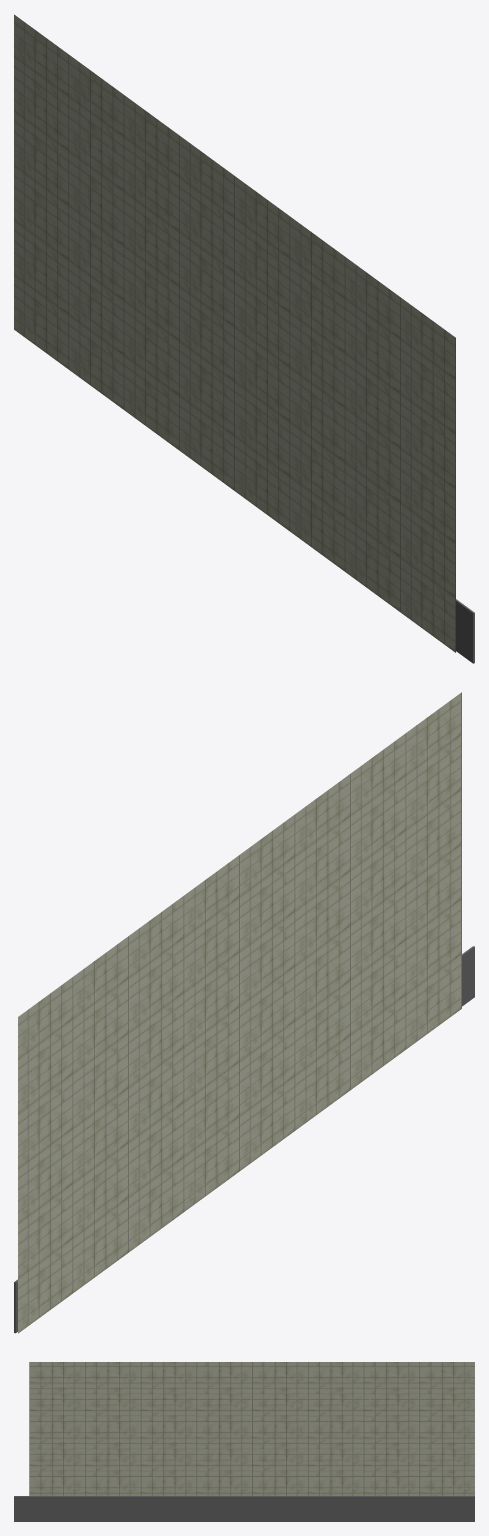
The model's file is leftWall.fbx.
3 views of the same model, one above another, from view 1: azimuth 30°, elevation 25°; view 2: azimuth 150°, elevation 25°; view 3: azimuth 270°, elevation 25° (orthographic). The views are drawn at different scales.
Parts seen in each view (by area): view 1: pPlane3; view 2: pPlane3; view 3: pPlane3.
Boxes of the visible parts, <box> form: pPlane3: <box>14,14,474,663</box>; pPlane3: <box>14,692,474,1333</box>; pPlane3: <box>14,1362,474,1521</box>.
Size of the model in its own units: 1.65 by 129 by 339.
2 materials, 1 textured.
